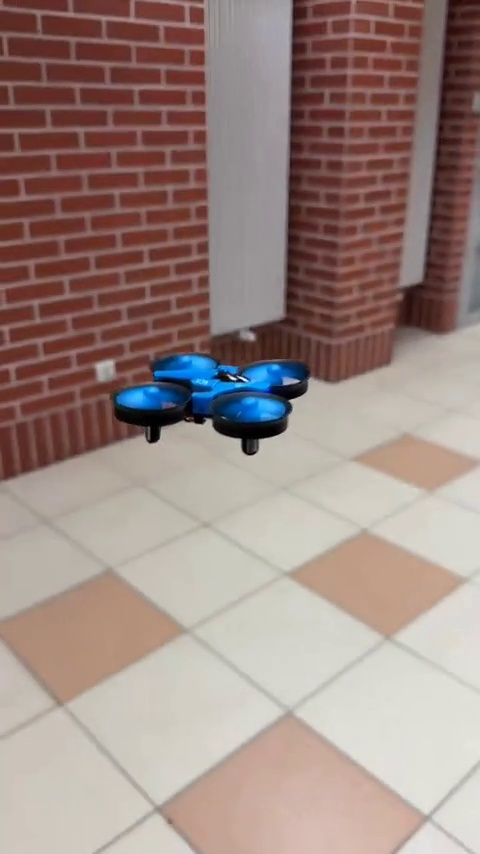drone: (116, 355, 313, 457)
